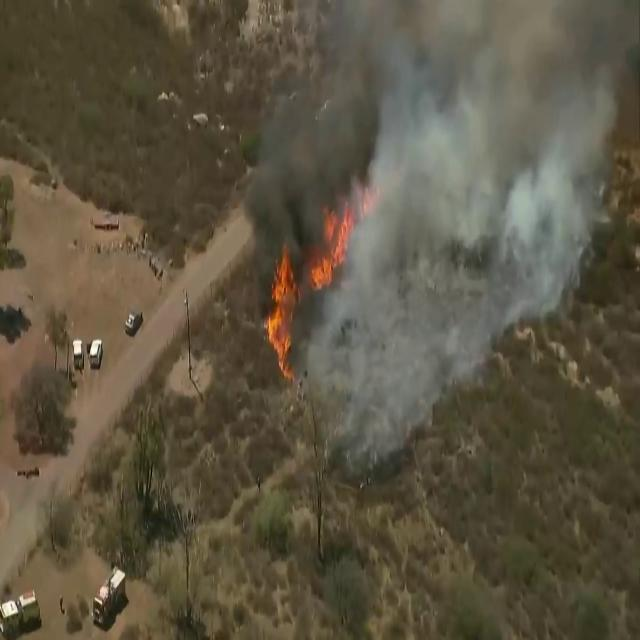Fire: (262, 238, 298, 379), (310, 191, 356, 295)
Smoke: (256, 0, 640, 423)
